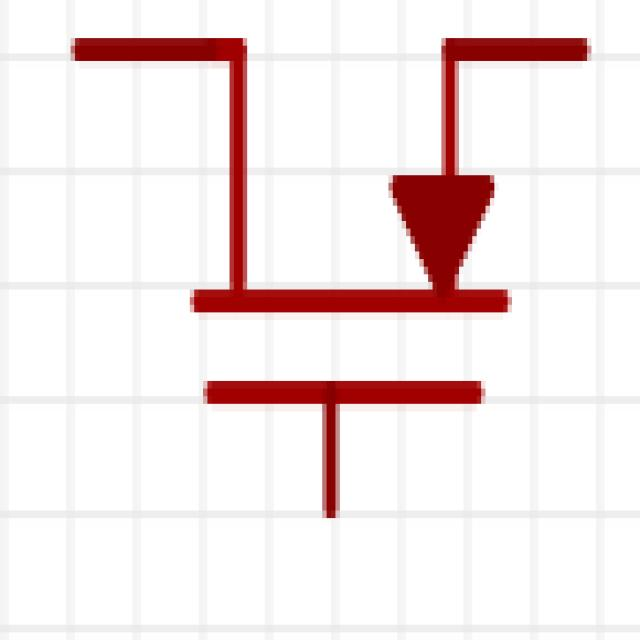pmos: (53, 0, 605, 526)
